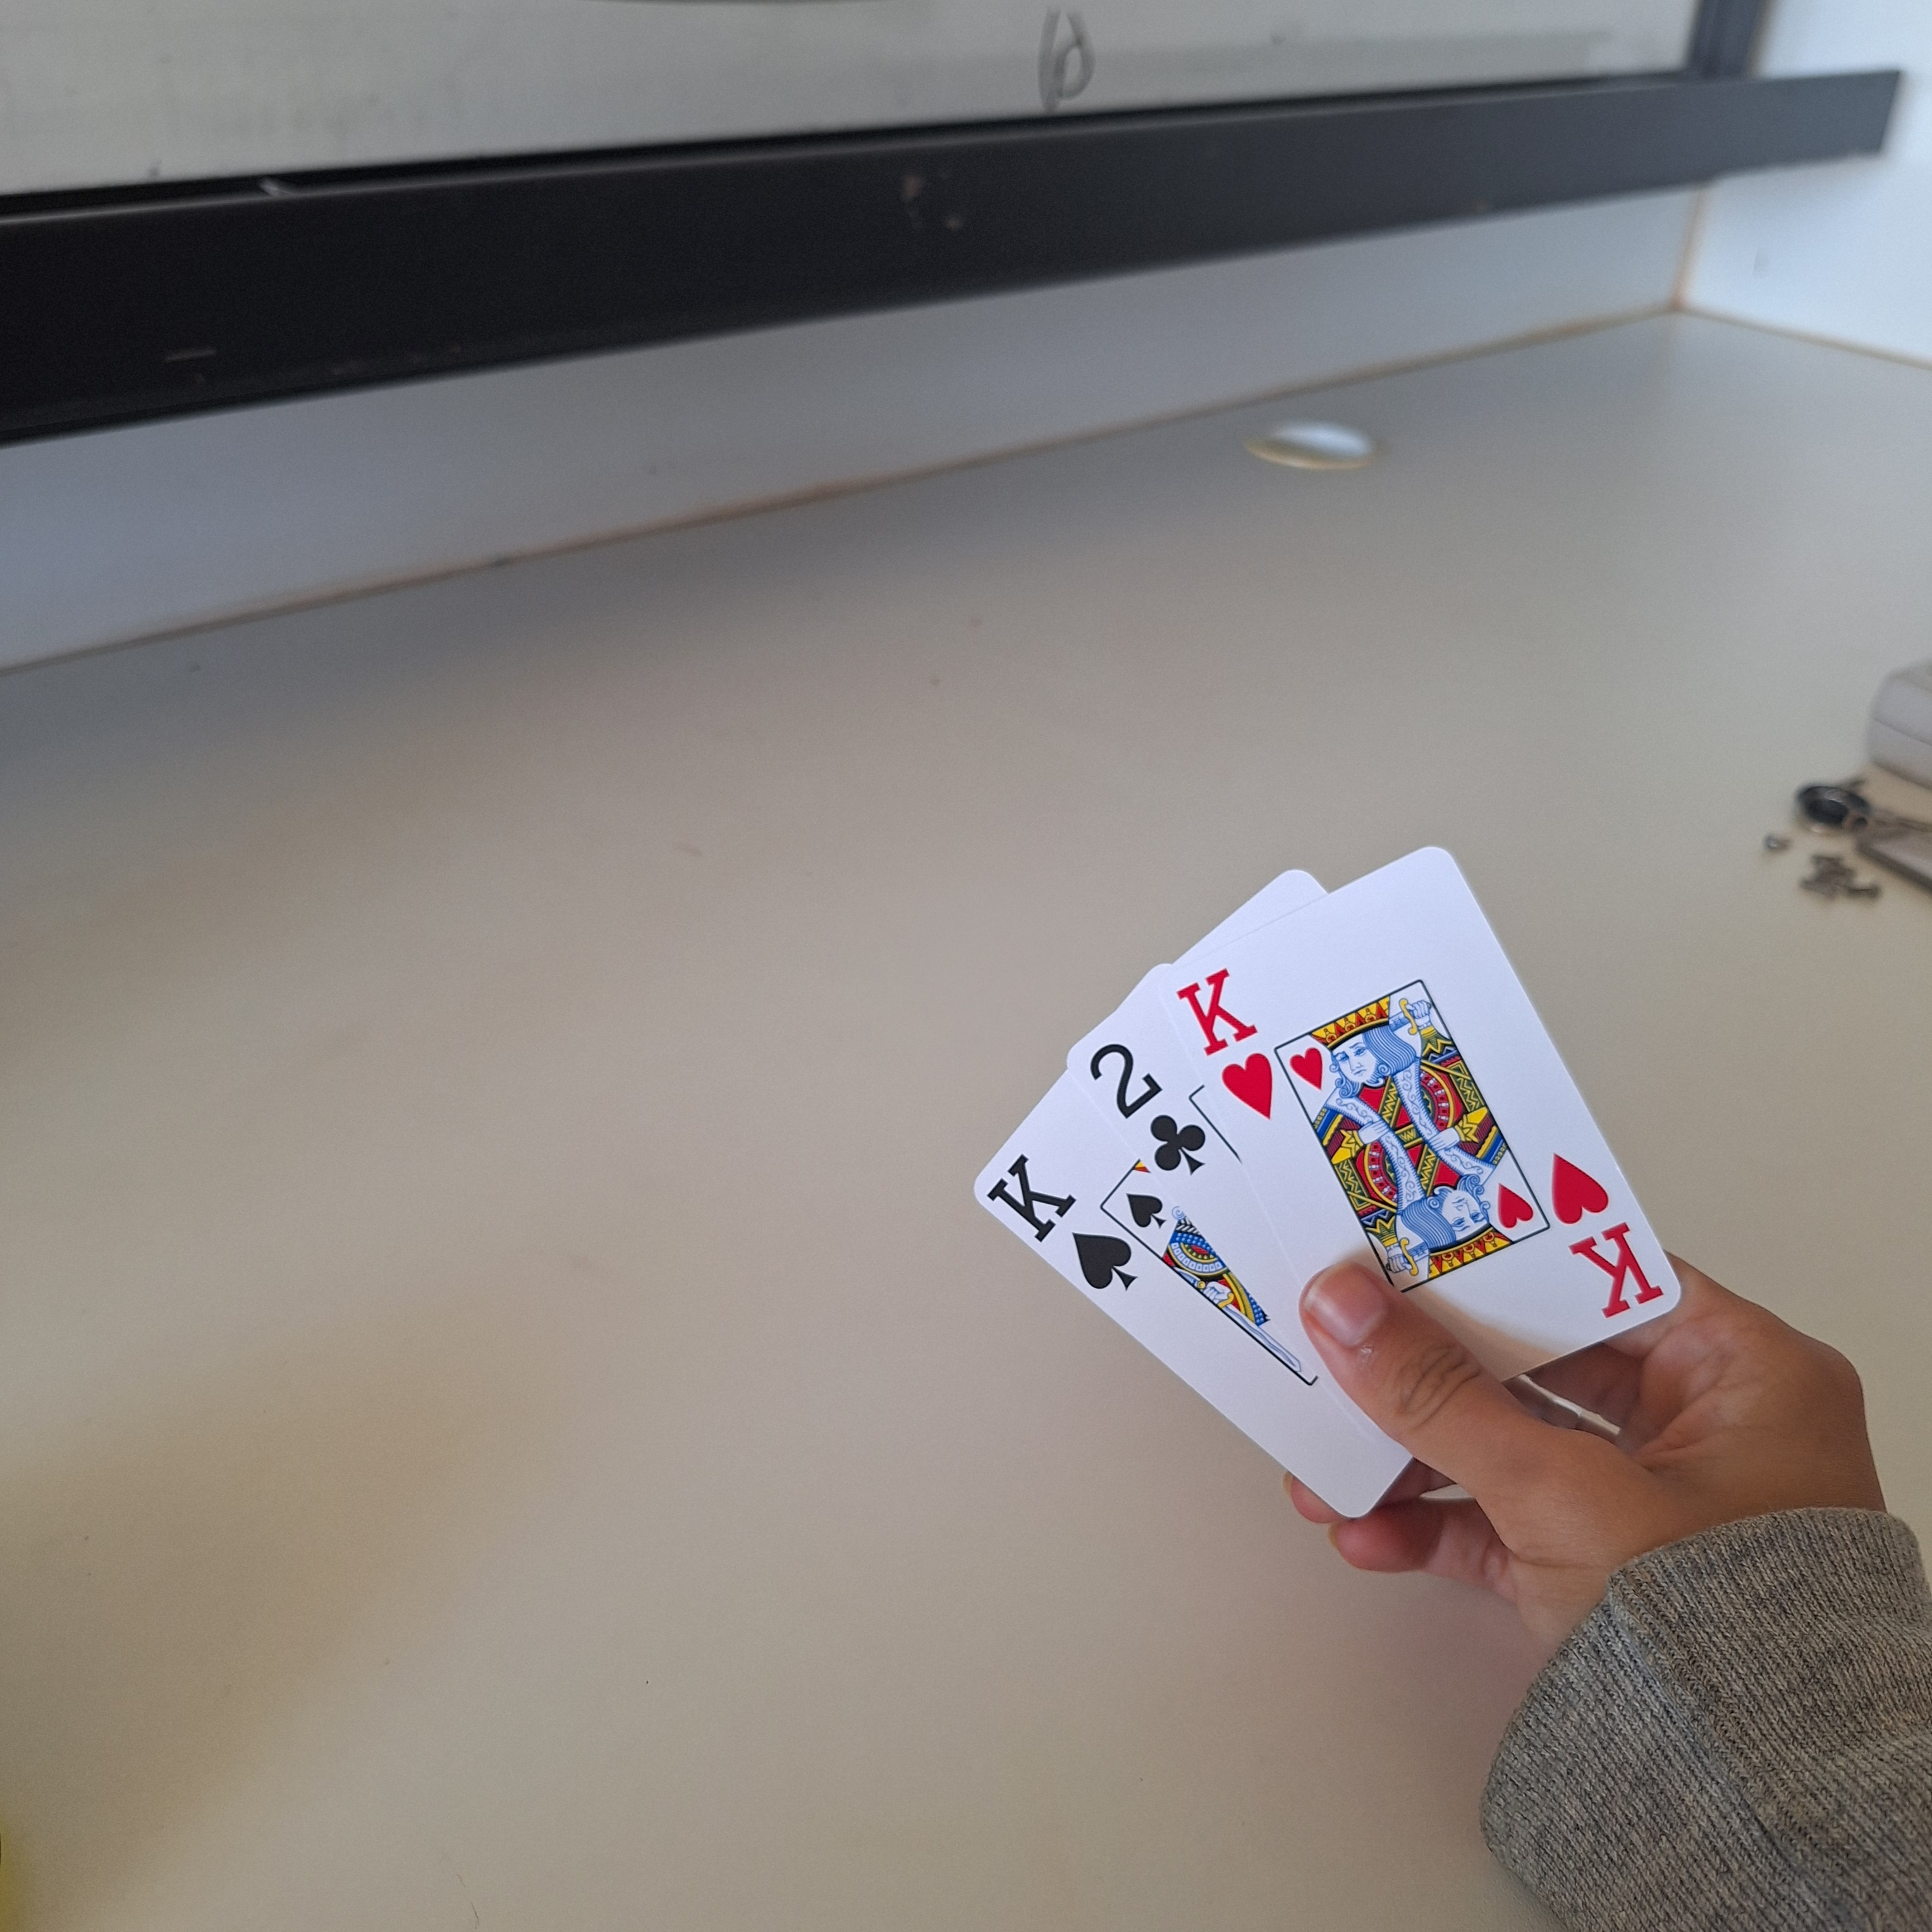2P: (1085, 1031, 1210, 1178)
KC: (1543, 1146, 1667, 1327), (1173, 962, 1279, 1122)
KE: (982, 1152, 1136, 1299)
